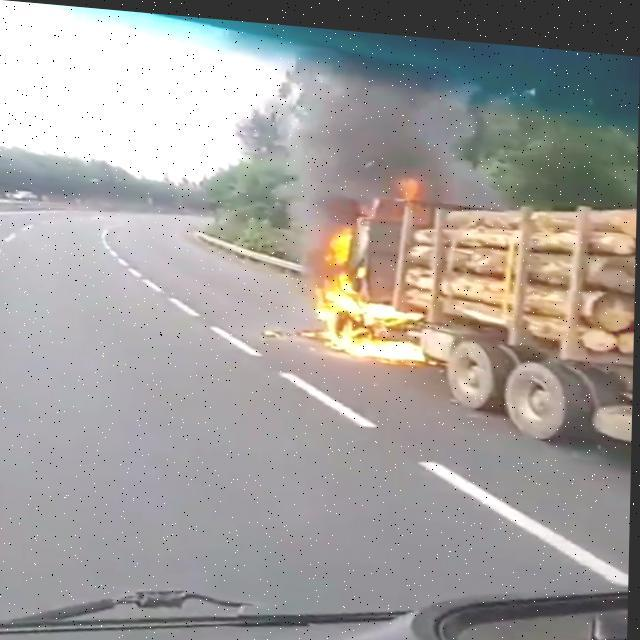Fire: (308, 222, 428, 356), (398, 168, 427, 196)
